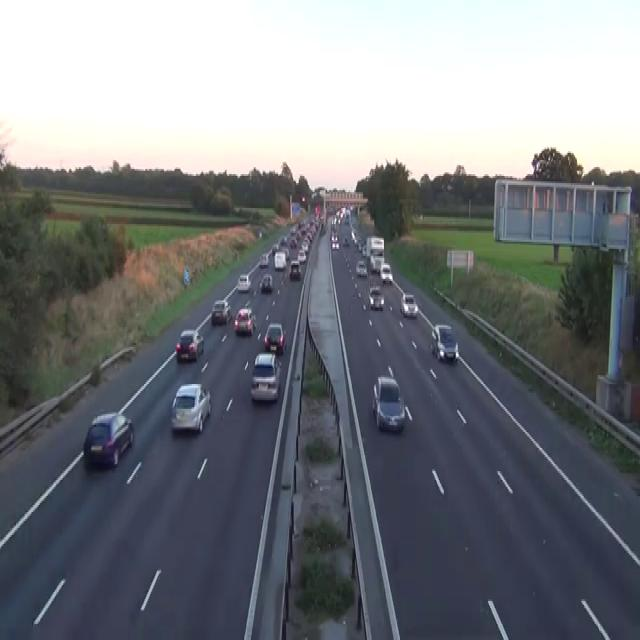Car: (83, 410, 133, 468), (170, 382, 211, 434), (372, 375, 405, 432), (250, 352, 281, 402), (430, 323, 458, 362), (175, 329, 204, 361), (264, 322, 285, 354), (234, 308, 256, 334), (211, 299, 231, 325), (400, 292, 418, 316), (368, 284, 384, 310), (366, 235, 384, 256), (369, 252, 383, 274), (259, 272, 273, 293), (237, 272, 251, 292), (380, 263, 393, 283), (289, 260, 301, 279), (355, 260, 367, 278), (274, 250, 286, 268), (258, 250, 268, 266), (279, 246, 289, 260), (297, 249, 306, 263), (331, 236, 339, 249), (358, 238, 365, 252), (351, 230, 358, 243), (271, 242, 278, 254), (279, 237, 287, 246), (342, 237, 349, 246), (290, 238, 297, 247), (289, 226, 296, 234), (258, 230, 262, 238)
